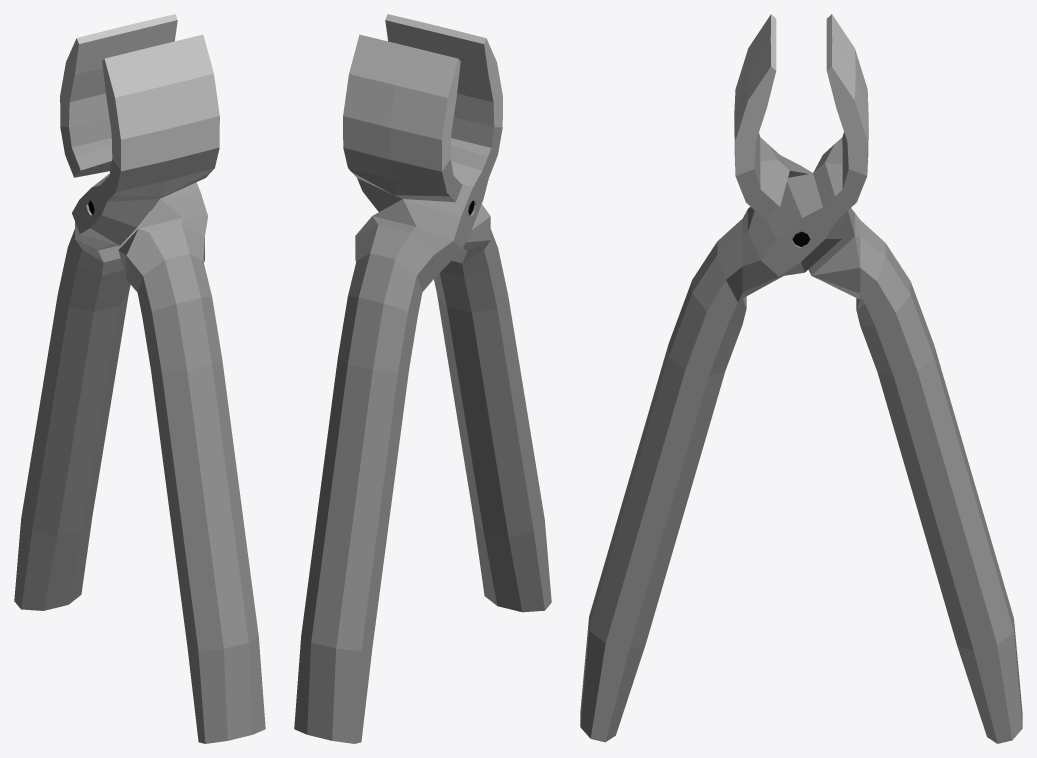
The model's file is plier02.gltf.
The picture shows the model from 3 angles, left to right: view 1: azimuth 30°, elevation 25°; view 2: azimuth 150°, elevation 25°; view 3: azimuth 270°, elevation 25°; orthographic projection. The views are drawn at different scales.
Visible parts, largest first — view 1: Cylinder; view 2: Cylinder; view 3: Cylinder.
Boxes of the visible parts, x1=… form: Cylinder: x1=14, y1=14, x2=265, y2=743; Cylinder: x1=294, y1=14, x2=551, y2=743; Cylinder: x1=580, y1=14, x2=1022, y2=743.
Bounding box in the file's own units: 0.0228 × 0.1397 × 0.0812.
1 material, 1 textured.
